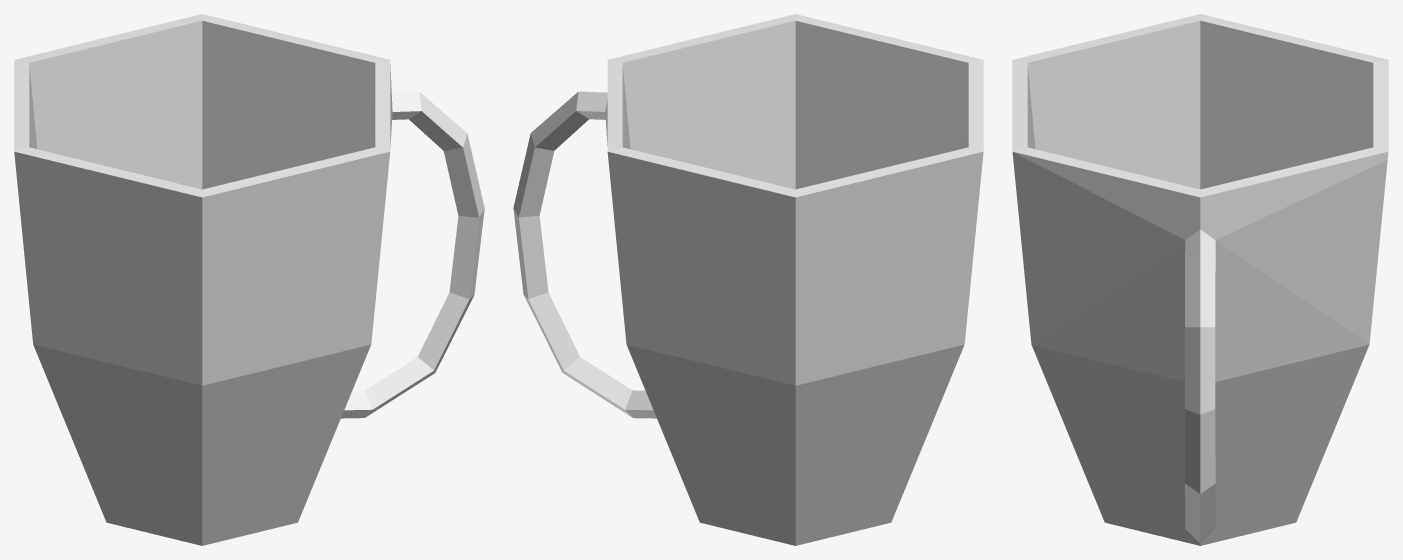
Rendered from CupLowPoly.fbx.
3 renders of one model, left to right at view 1: azimuth 30°, elevation 25°; view 2: azimuth 150°, elevation 25°; view 3: azimuth 270°, elevation 25°, orthographic.
Visible parts, largest first — view 1: Cube; view 2: Cube; view 3: Cube.
Part boxes in pixels (x1,y1,x2,y2): Cube: (14,14,484,545); Cube: (513,14,983,545); Cube: (1012,14,1388,545).
Size of the model in its own units: 0.1249 by 0.1 by 0.0865.
